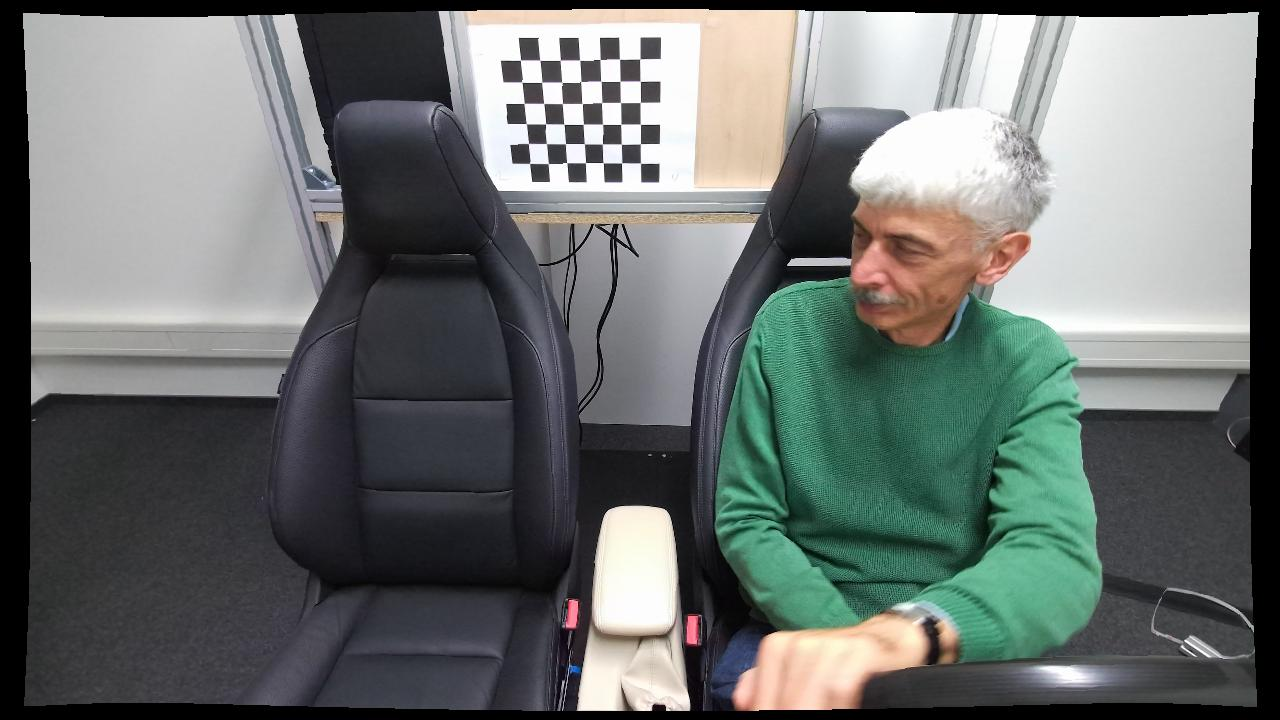Distracted: (706, 104, 1107, 713)
